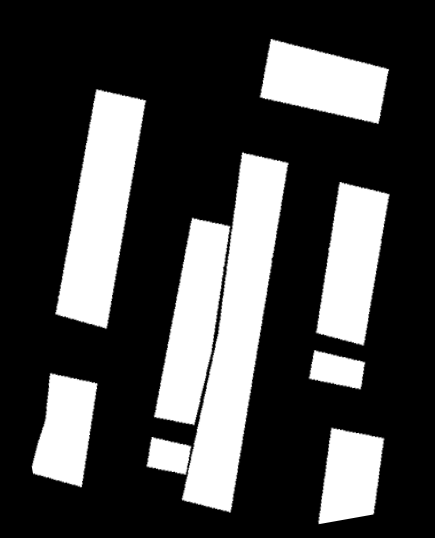parkingspot: (146, 152, 289, 513), (55, 89, 146, 329), (154, 218, 230, 425), (316, 182, 390, 346), (260, 39, 389, 124), (32, 373, 98, 487), (318, 428, 384, 524), (309, 350, 365, 389)
